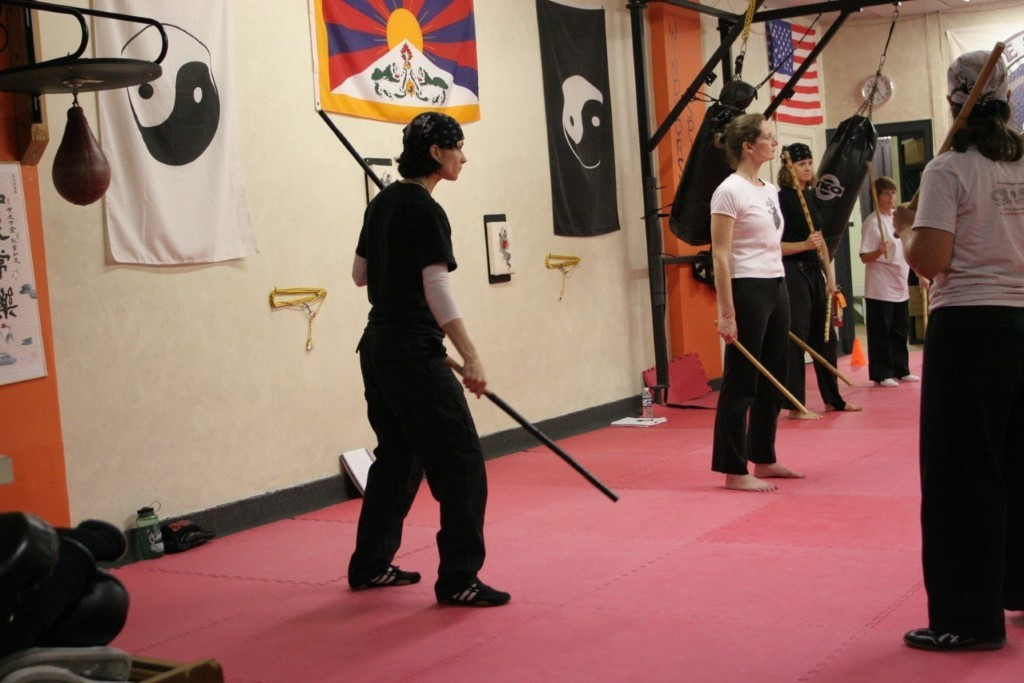baston_e: (450, 357, 613, 500), (897, 51, 1002, 221), (735, 336, 803, 414), (317, 114, 384, 184), (781, 157, 821, 254), (791, 330, 849, 385), (865, 165, 887, 254), (823, 294, 832, 338)
baston_v: (993, 37, 1008, 52), (608, 493, 625, 505), (442, 353, 455, 366), (312, 103, 324, 117), (891, 229, 901, 241), (802, 407, 811, 417), (781, 147, 791, 156), (863, 158, 874, 166), (817, 255, 825, 262), (822, 336, 830, 343), (848, 381, 855, 388), (882, 254, 890, 260)
